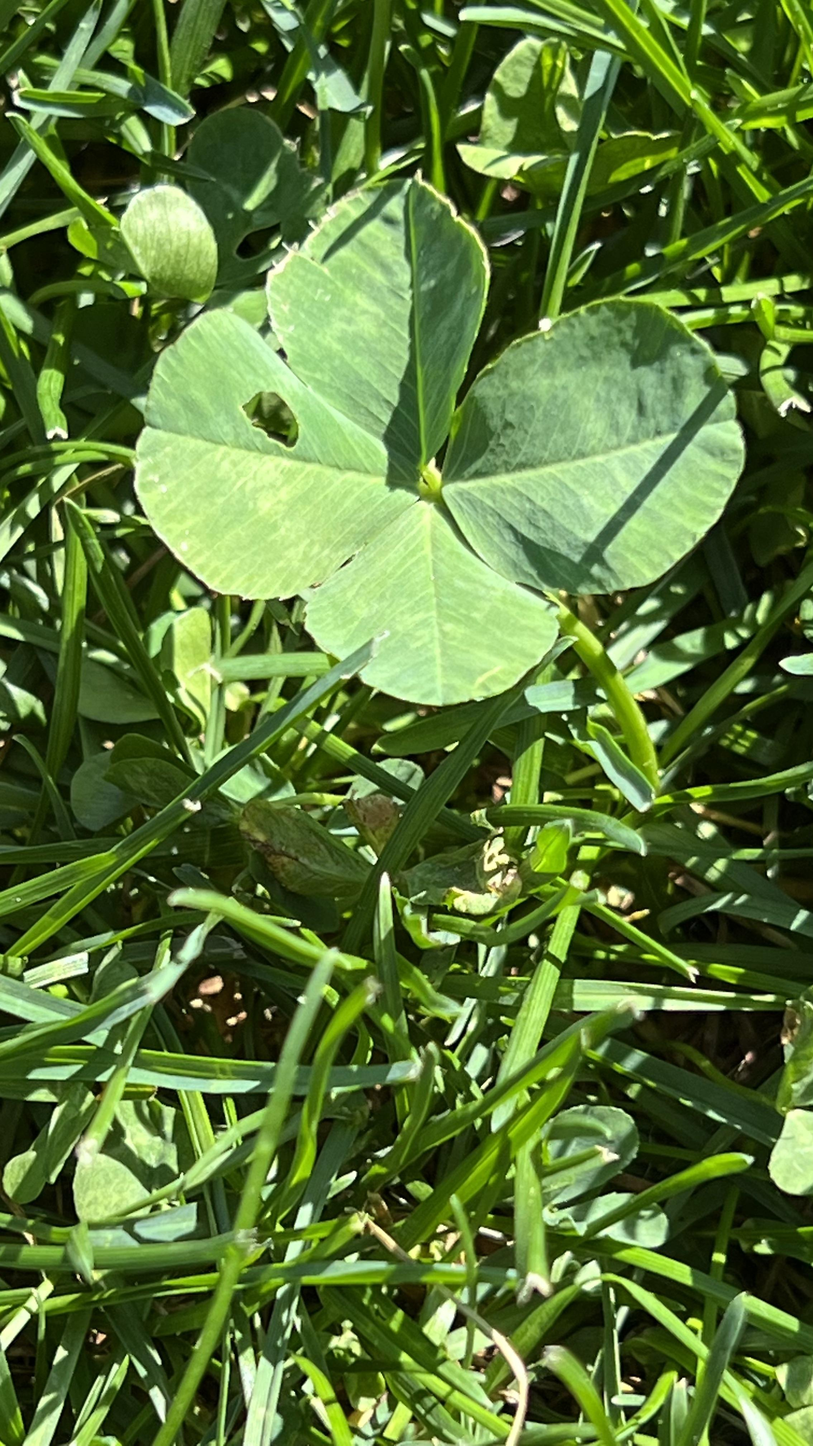4-Leaf-Clovers: (100, 121, 398, 1185)
